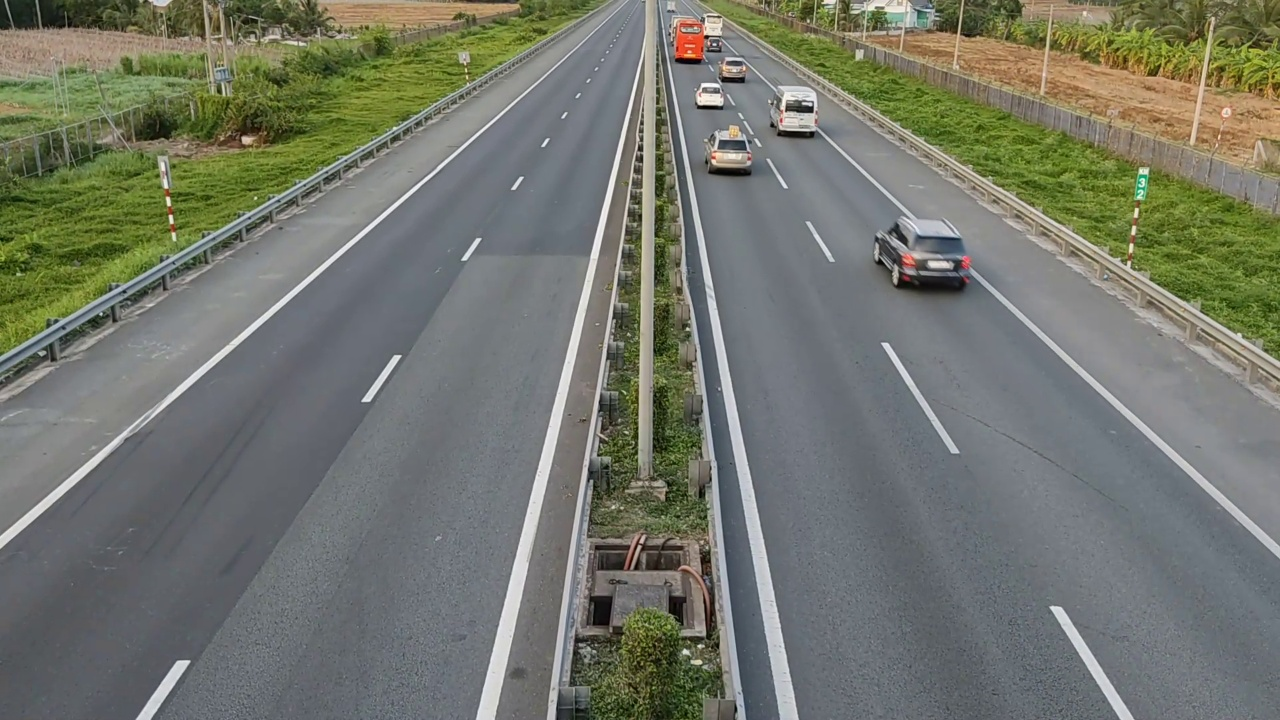car: (871, 216, 972, 290), (765, 80, 822, 139), (705, 129, 753, 175), (695, 81, 725, 109), (719, 57, 749, 83)
